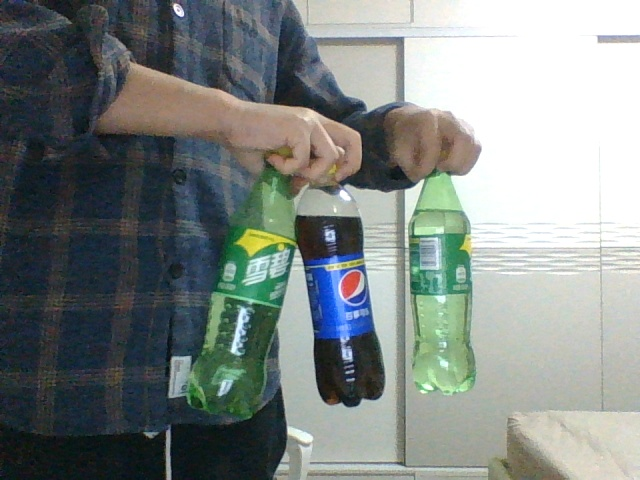Cola: (297, 160, 386, 407)
Sprite: (185, 150, 297, 416), (408, 159, 477, 395)
